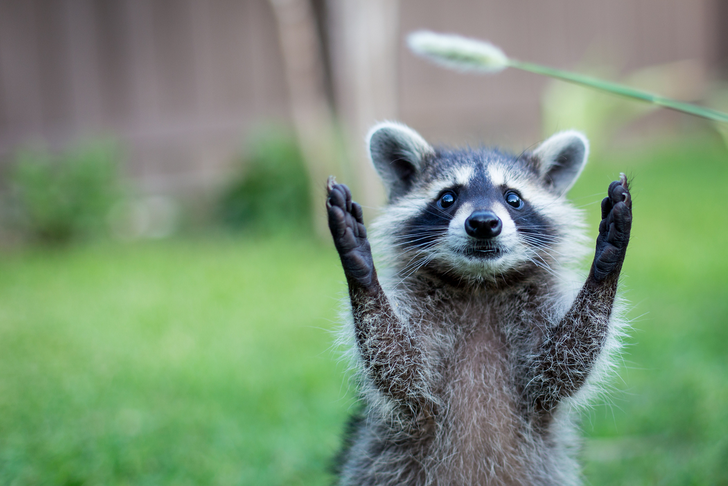raccoon: (320, 105, 631, 484)
